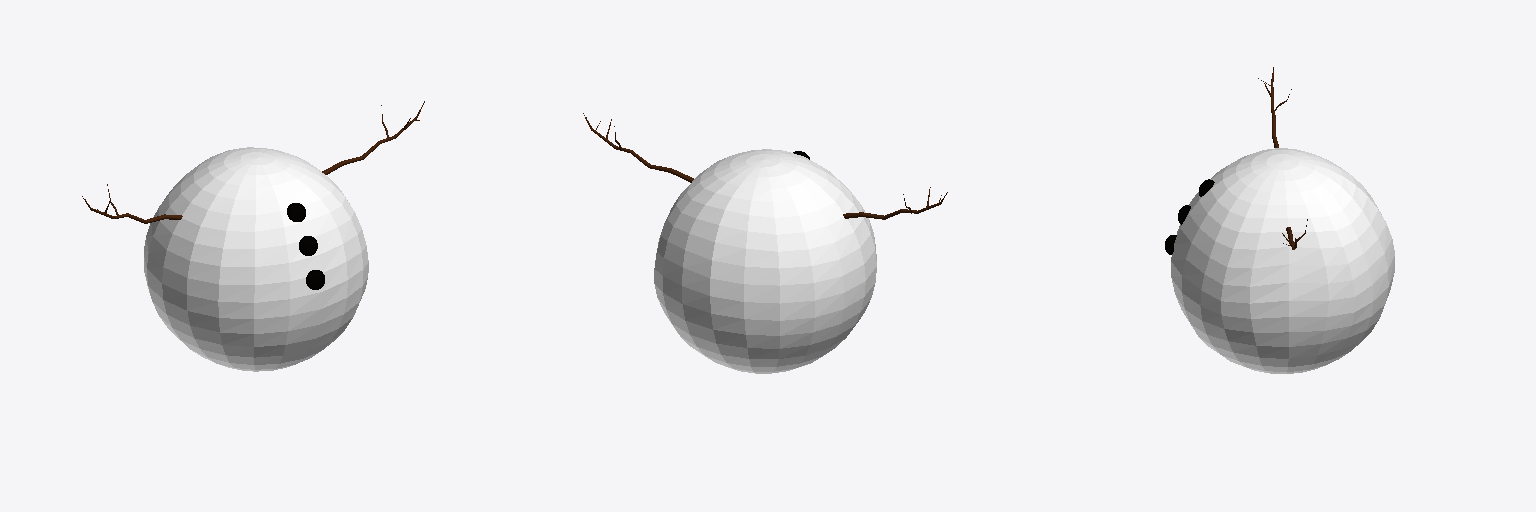
3 renders of one model, left to right at view 1: azimuth 30°, elevation 25°; view 2: azimuth 150°, elevation 25°; view 3: azimuth 270°, elevation 25°, orthographic.
Parts seen in each view (by area): view 1: NIEVE1:pSphere21; view 2: NIEVE1:pSphere21; view 3: NIEVE1:pSphere21.
Part boxes in pixels (x1,y1,x2,y2): NIEVE1:pSphere21: (82,101,424,371); NIEVE1:pSphere21: (583,113,947,373); NIEVE1:pSphere21: (1165,67,1394,373).
Bounding box in the file's own units: 15.88 × 9.15 × 8.97.
3 materials, 3 textured.